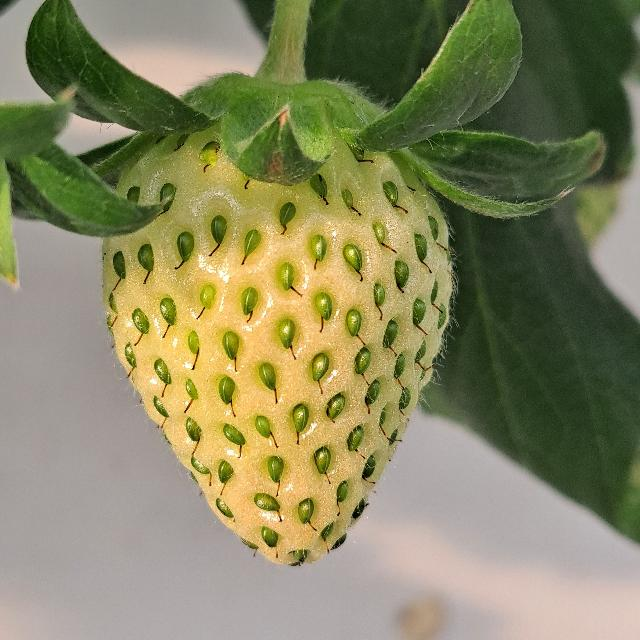Health_25: (100, 119, 452, 566)
